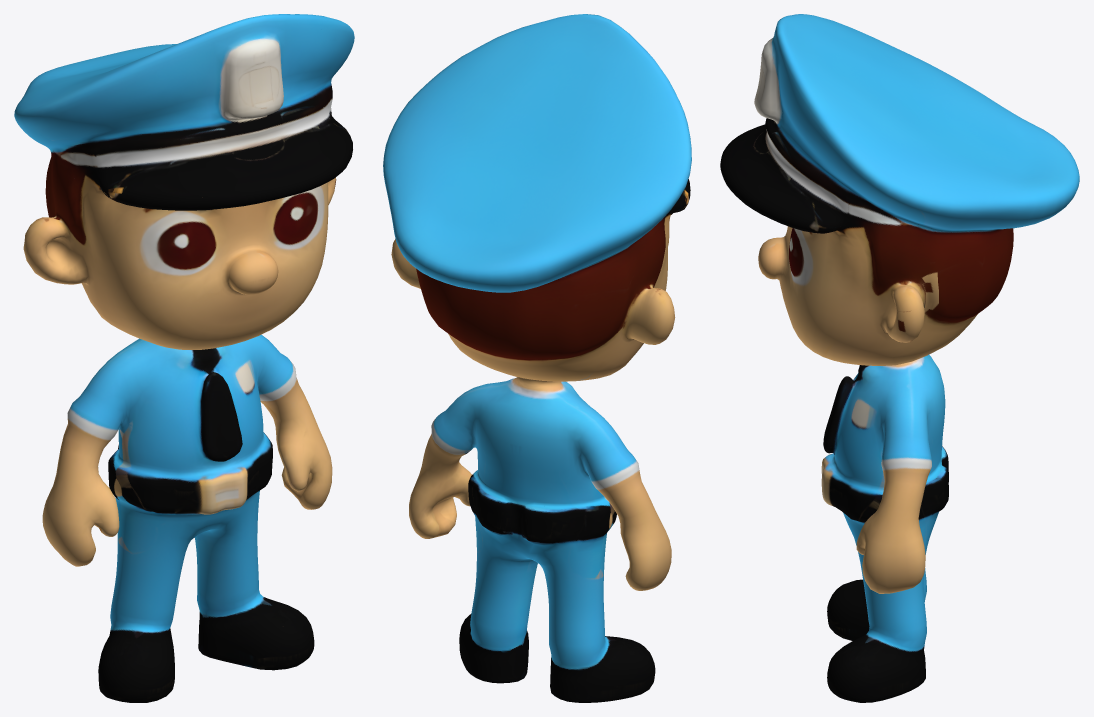
The model's file is base_basic_pbr.glb.
3 renders of one model, left to right at view 1: azimuth 30°, elevation 25°; view 2: azimuth 150°, elevation 25°; view 3: azimuth 270°, elevation 25°, orthographic. The views are drawn at different scales.
Visible parts, largest first — view 1: model; view 2: model; view 3: model.
Boxes of the visible parts, x1=… form: model: x1=14, y1=14, x2=354, y2=702; model: x1=383, y1=14, x2=691, y2=702; model: x1=720, y1=14, x2=1079, y2=702.
Bounding box in the file's own units: 0.9051 × 1.9 × 0.9746.
1 material, 1 textured.
